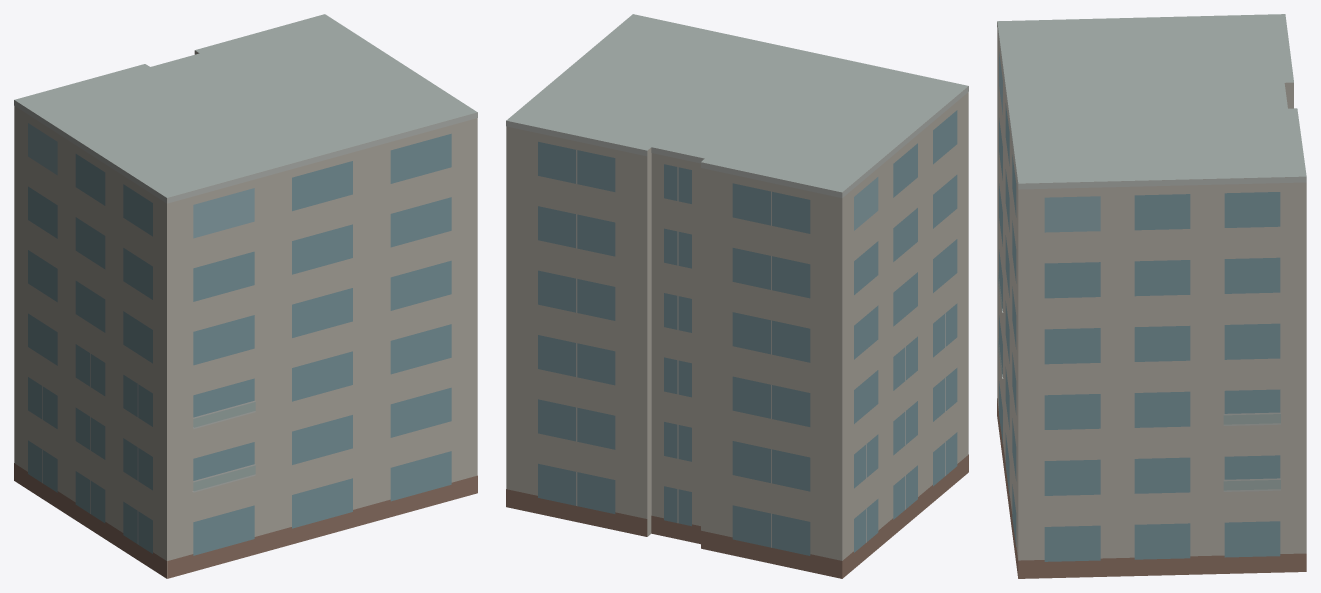
File: survey-upis-32848638.glb
3 renders of one model, left to right at view 1: azimuth 30°, elevation 25°; view 2: azimuth 150°, elevation 25°; view 3: azimuth 270°, elevation 25°, orthographic. The views are drawn at different scales.
Parts seen in each view (by area): view 1: survey-upis-32848638.tmp; view 2: survey-upis-32848638.tmp; view 3: survey-upis-32848638.tmp.
Boxes of the visible parts, left/top/right/bottom form: survey-upis-32848638.tmp: left=14, top=14, right=477, bottom=578; survey-upis-32848638.tmp: left=506, top=14, right=968, bottom=578; survey-upis-32848638.tmp: left=997, top=14, right=1306, bottom=578.
Size of the model in its own units: 15.06 by 16.35 by 11.61.
